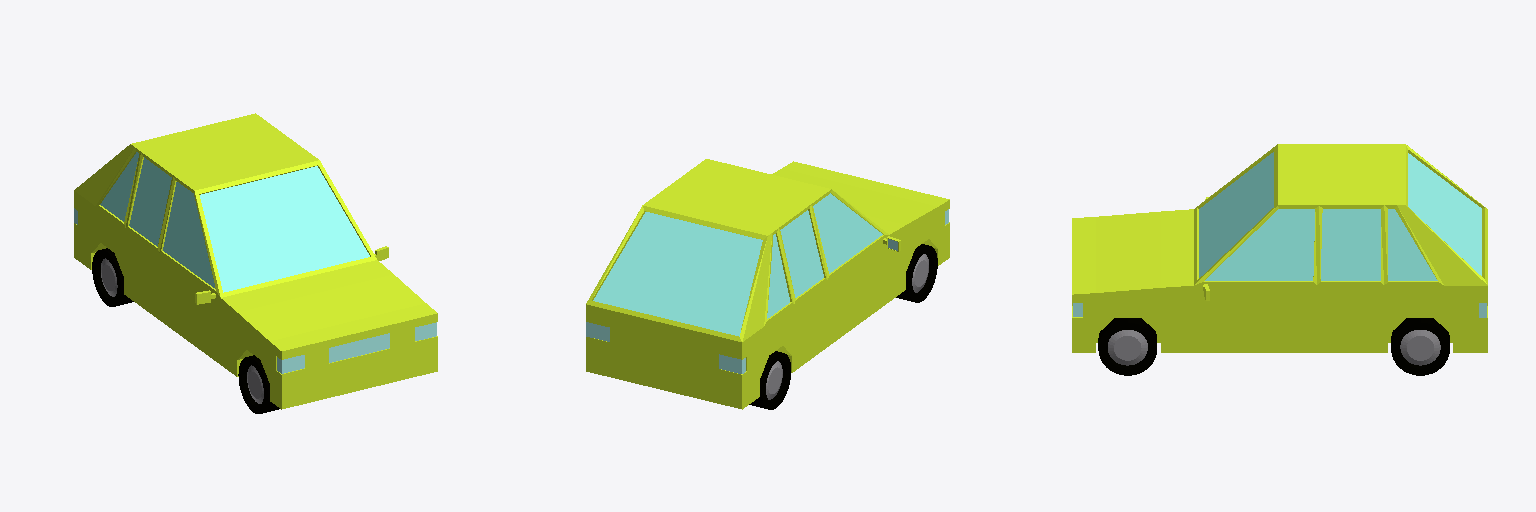
3 renders of one model, left to right at view 1: azimuth 30°, elevation 25°; view 2: azimuth 150°, elevation 25°; view 3: azimuth 270°, elevation 25°, orthographic.
Parts seen in each view (by area): view 1: Car_Car1_Cube.001; view 2: Car_Car1_Cube.001; view 3: Car_Car1_Cube.001.
Boxes of the visible parts, x1=… form: Car_Car1_Cube.001: x1=74, y1=113, x2=437, y2=413; Car_Car1_Cube.001: x1=586, y1=159, x2=949, y2=409; Car_Car1_Cube.001: x1=1072, y1=144, x2=1487, y2=375.
Size of the model in its own units: 2.46 by 1.99 by 4.6.
1 materials, 1 textured.